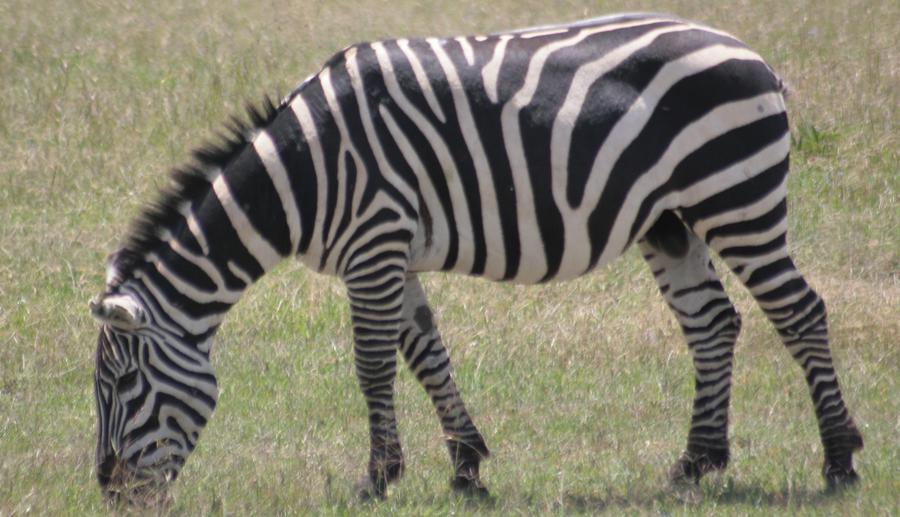zebra_plains: (298, 40, 789, 267)
